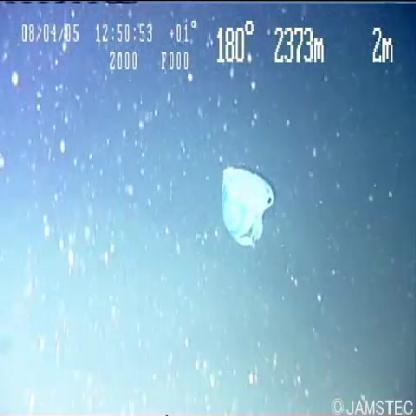Rác: (218, 166, 274, 250)
